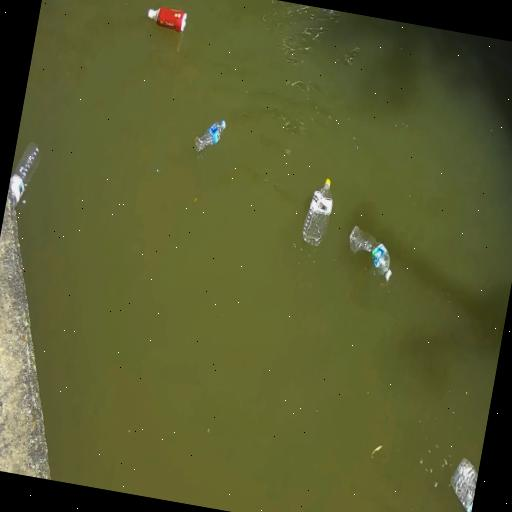plastic: (349, 226, 391, 280), (301, 178, 332, 247), (9, 143, 38, 206), (450, 458, 477, 511), (194, 120, 225, 152), (147, 8, 186, 33)
